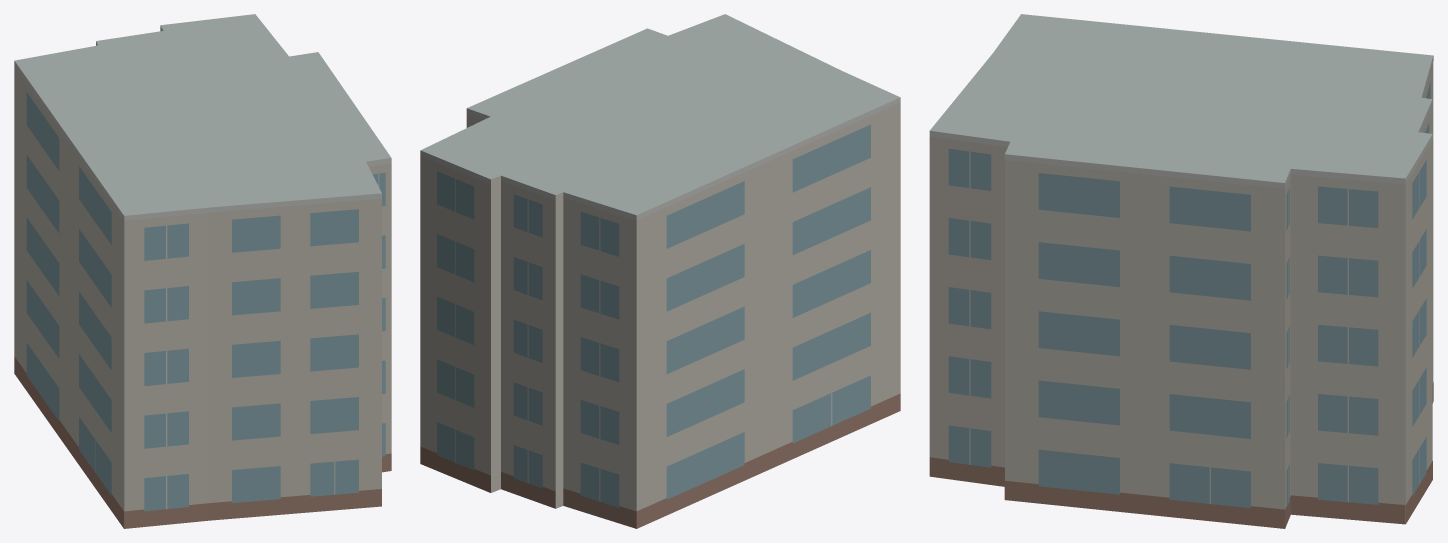
Rendered from survey-upis-32619160.glb.
The picture shows the model from 3 angles, left to right: view 1: azimuth 30°, elevation 25°; view 2: azimuth 150°, elevation 25°; view 3: azimuth 270°, elevation 25°; orthographic projection. The views are drawn at different scales.
Parts seen in each view (by area): view 1: survey-upis-32619160.tmp; view 2: survey-upis-32619160.tmp; view 3: survey-upis-32619160.tmp.
Boxes of the visible parts, box(x1,y1,x2,y2) form: survey-upis-32619160.tmp: box(14, 14, 391, 528); survey-upis-32619160.tmp: box(420, 14, 900, 528); survey-upis-32619160.tmp: box(929, 14, 1433, 528).
Size of the model in its own units: 15.26 by 14.55 by 19.22.
